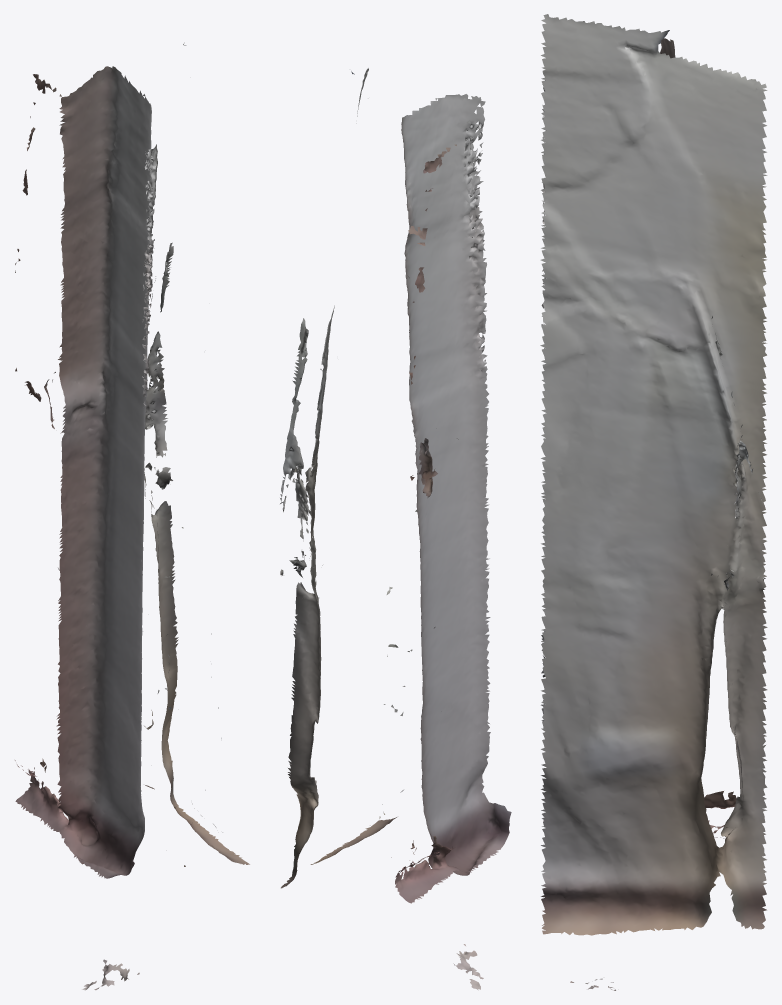
The model's file is apartment-full-65-890c4858615c.glb.
3 views of the same model, side by side, from view 1: azimuth 30°, elevation 25°; view 2: azimuth 150°, elevation 25°; view 3: azimuth 270°, elevation 25° (orthographic). The views are drawn at different scales.
Size of the model in its own units: 0.345 by 2.24 by 0.449.
